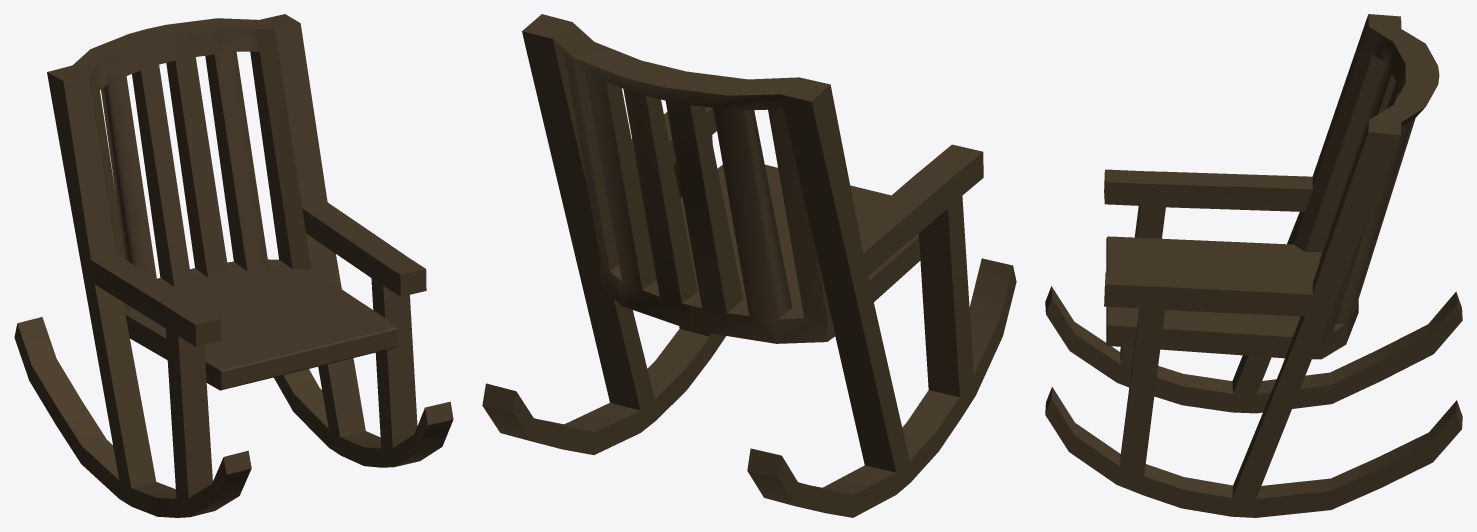
File: rockingchair.glb
The picture shows the model from 3 angles, left to right: view 1: azimuth 30°, elevation 25°; view 2: azimuth 150°, elevation 25°; view 3: azimuth 270°, elevation 25°; orthographic projection. The views are drawn at different scales.
Parts seen in each view (by area): view 1: polySurface21; view 2: polySurface21; view 3: polySurface21.
Boxes of the visible parts, box(x1,y1,x2,y2) form: polySurface21: box(14, 14, 453, 517); polySurface21: box(482, 14, 1016, 517); polySurface21: box(1045, 14, 1462, 517).
Bounding box in the file's own units: 0.0133 × 0.0197 × 0.0193.
